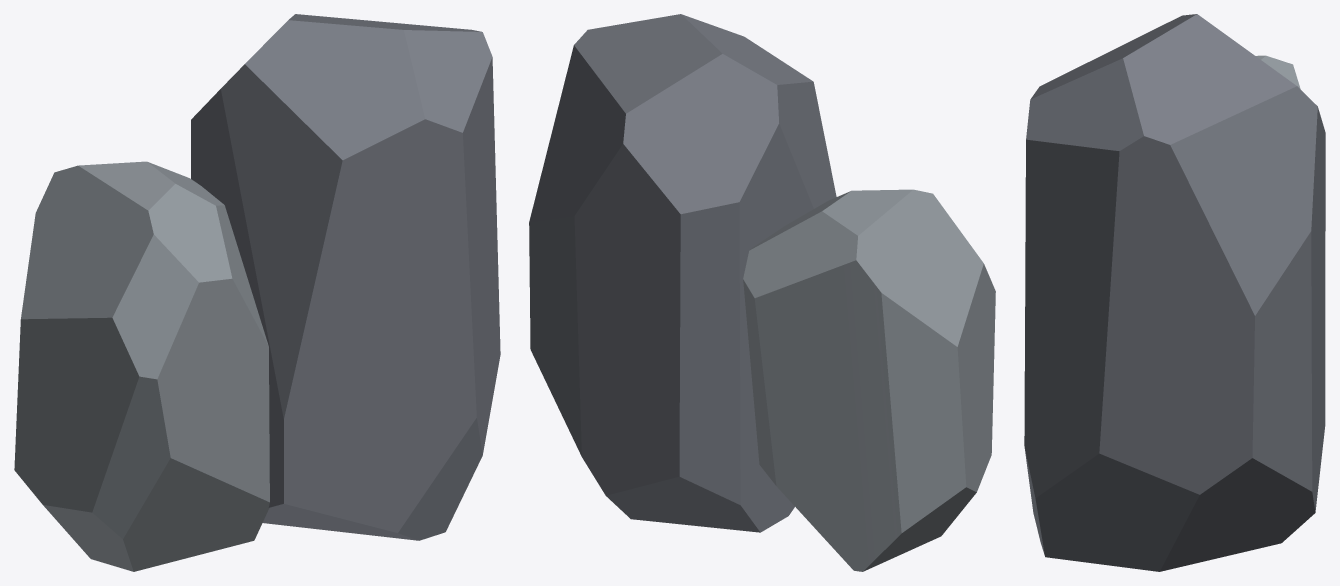
File: Rocks_Round_m_05.fbx
The picture shows the model from 3 angles, left to right: view 1: azimuth 30°, elevation 25°; view 2: azimuth 150°, elevation 25°; view 3: azimuth 270°, elevation 25°; orthographic projection. The views are drawn at different scales.
Visible parts, largest first — view 1: Rocks_Round_m_05; view 2: Rocks_Round_m_05; view 3: Rocks_Round_m_05.
Part boxes in pixels (x1,y1,x2,y2): Rocks_Round_m_05: [14, 14, 500, 571]; Rocks_Round_m_05: [529, 14, 995, 571]; Rocks_Round_m_05: [1024, 14, 1325, 571].
Bounding box in the file's own units: 145 × 149 × 81.32.
